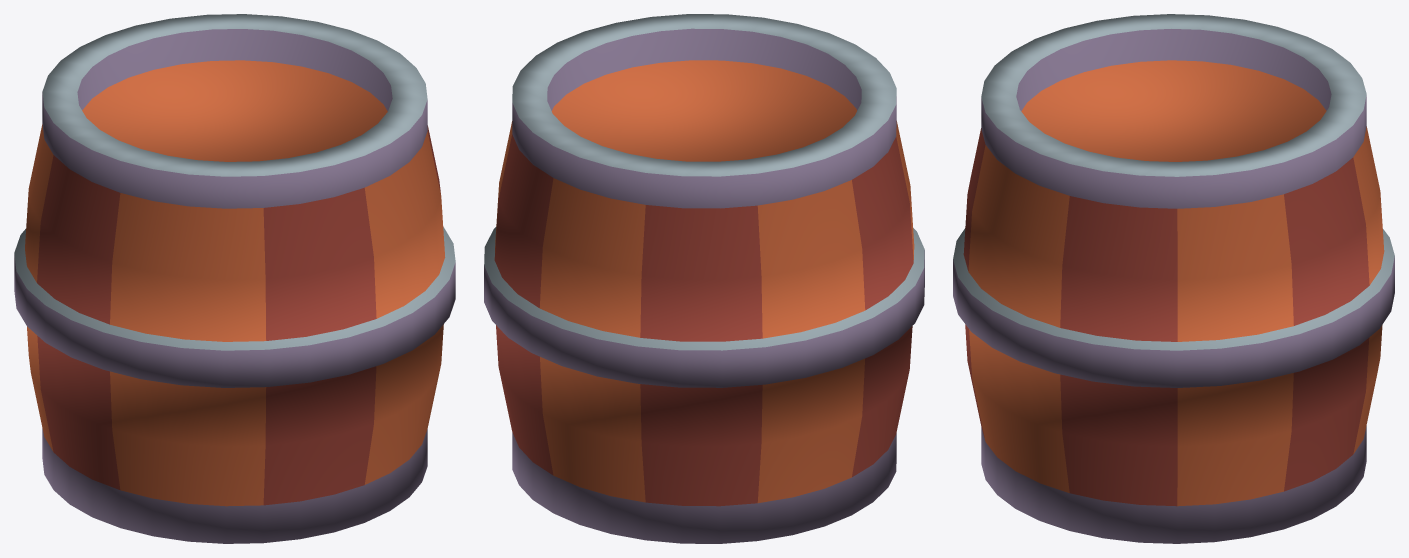
The model's file is barrels.fbx.
The picture shows the model from 3 angles, left to right: view 1: azimuth 30°, elevation 25°; view 2: azimuth 150°, elevation 25°; view 3: azimuth 270°, elevation 25°; orthographic projection.
Visible parts, largest first — view 1: barrels; view 2: barrels; view 3: barrels.
Part boxes in pixels (x1,y1,x2,y2): barrels: [14, 14, 455, 543]; barrels: [484, 14, 924, 543]; barrels: [953, 14, 1394, 543].
Size of the model in its own units: 0.2292 by 0.2101 by 0.2292.
Materials: 1 (1 with a texture image).
